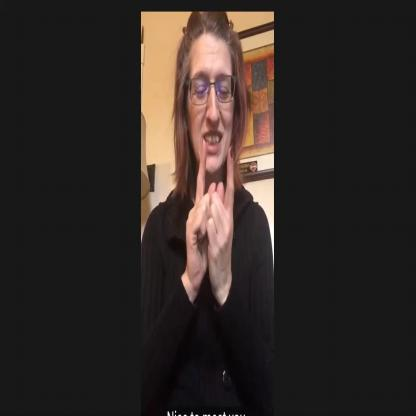NiceToMeetYou: (180, 129, 247, 305)
